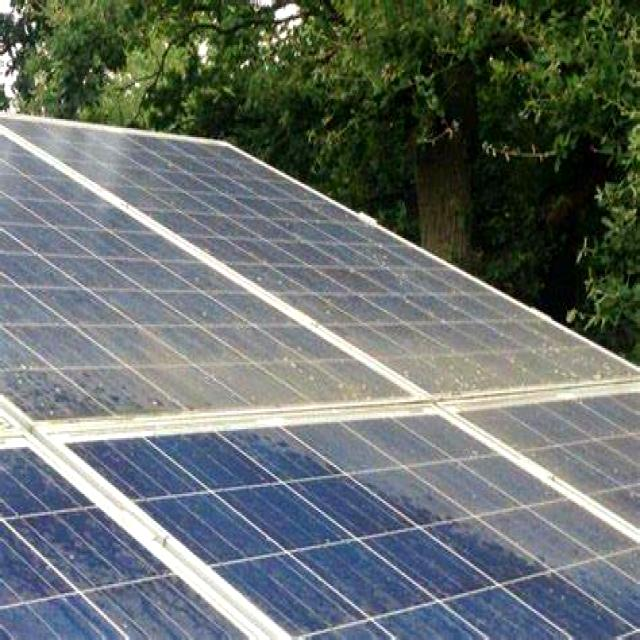dust: (220, 414, 460, 546), (468, 452, 618, 639), (244, 225, 422, 339), (59, 340, 336, 408), (0, 202, 119, 319), (0, 530, 117, 639), (363, 350, 609, 398), (140, 143, 230, 220), (120, 258, 194, 348)
